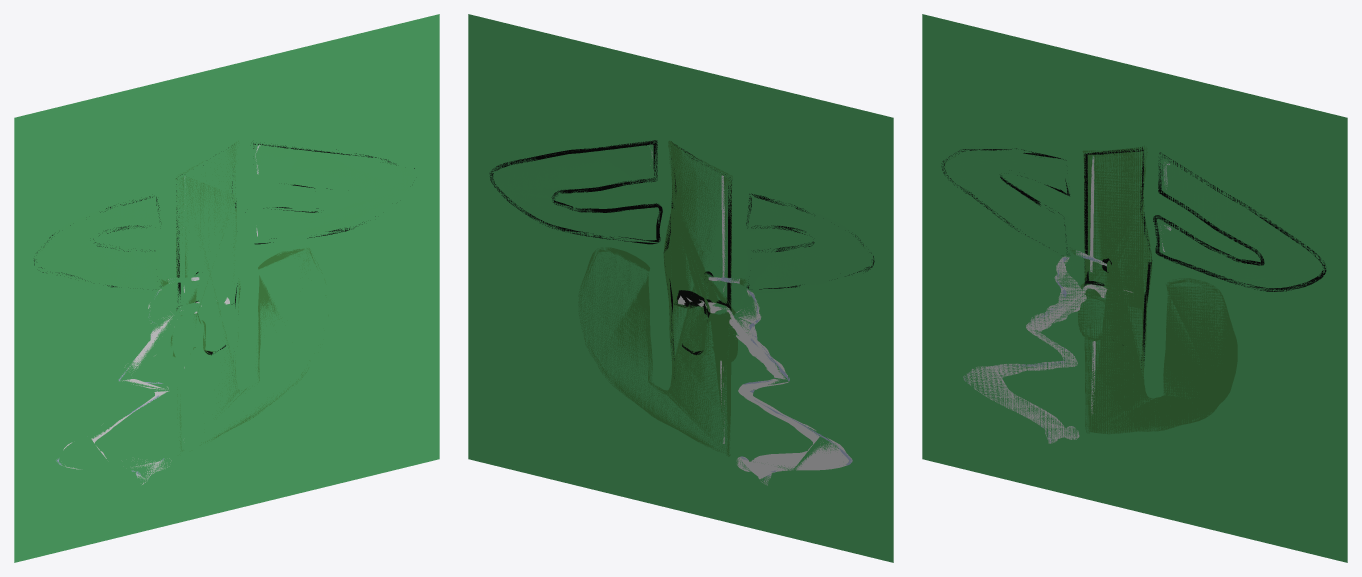
3 renders of one model, left to right at view 1: azimuth 30°, elevation 25°; view 2: azimuth 150°, elevation 25°; view 3: azimuth 330°, elevation 25°, orthographic.
Visible parts, largest first — view 1: entity_2, entity_14, entity_5, entity_11, entity_17, entity_8; view 2: entity_2, entity_5, entity_14, entity_11, entity_8, entity_17, entity_23, entity_29, entity_20, entity_26; view 3: entity_2, entity_5, entity_11, entity_14, entity_8, entity_17, entity_23, entity_20, entity_26.
Boxes of the visible parts, x1=… form: entity_2: x1=14, y1=14, x2=439, y2=562; entity_14: x1=34, y1=196, x2=163, y2=292; entity_5: x1=170, y1=141, x2=328, y2=445; entity_11: x1=251, y1=145, x2=413, y2=235; entity_17: x1=62, y1=289, x2=199, y2=484; entity_8: x1=171, y1=176, x2=325, y2=451; entity_2: x1=468, y1=14, x2=893, y2=562; entity_5: x1=578, y1=140, x2=737, y2=456; entity_14: x1=743, y1=193, x2=874, y2=292; entity_11: x1=493, y1=144, x2=658, y2=240; entity_8: x1=579, y1=179, x2=736, y2=456; entity_17: x1=708, y1=289, x2=852, y2=485; entity_23: x1=489, y1=140, x2=662, y2=244; entity_29: x1=674, y1=282, x2=731, y2=355; entity_20: x1=664, y1=142, x2=731, y2=378; entity_26: x1=746, y1=193, x2=874, y2=289; entity_2: x1=922, y1=14, x2=1347, y2=562; entity_5: x1=1078, y1=145, x2=1237, y2=434; entity_11: x1=1157, y1=159, x2=1322, y2=287; entity_14: x1=941, y1=146, x2=1072, y2=260; entity_8: x1=1080, y1=156, x2=1237, y2=432; entity_17: x1=963, y1=256, x2=1107, y2=443; entity_23: x1=1153, y1=152, x2=1326, y2=291; entity_20: x1=1084, y1=147, x2=1152, y2=369; entity_26: x1=941, y1=148, x2=1069, y2=254.
Size of the model in its own units: 1080 by 1080 by 0.
